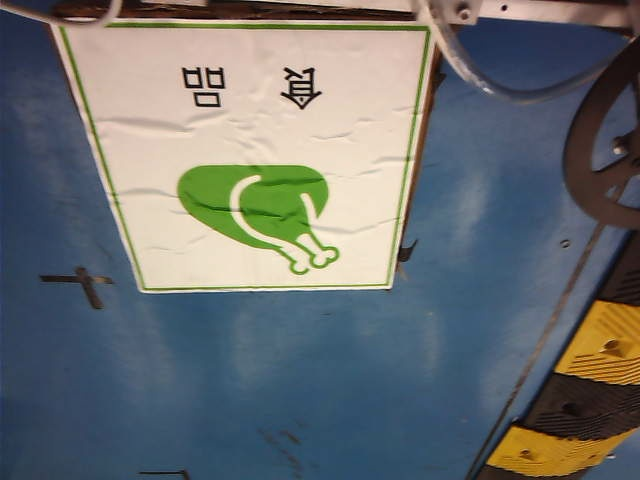Cube_food: (148, 34, 378, 279)
